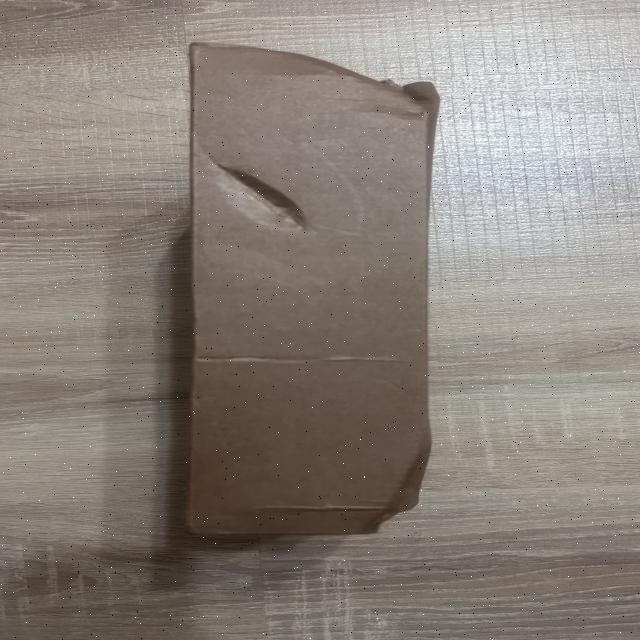damaged: (172, 34, 454, 548), (243, 35, 443, 111), (200, 149, 323, 245), (364, 430, 440, 536)
